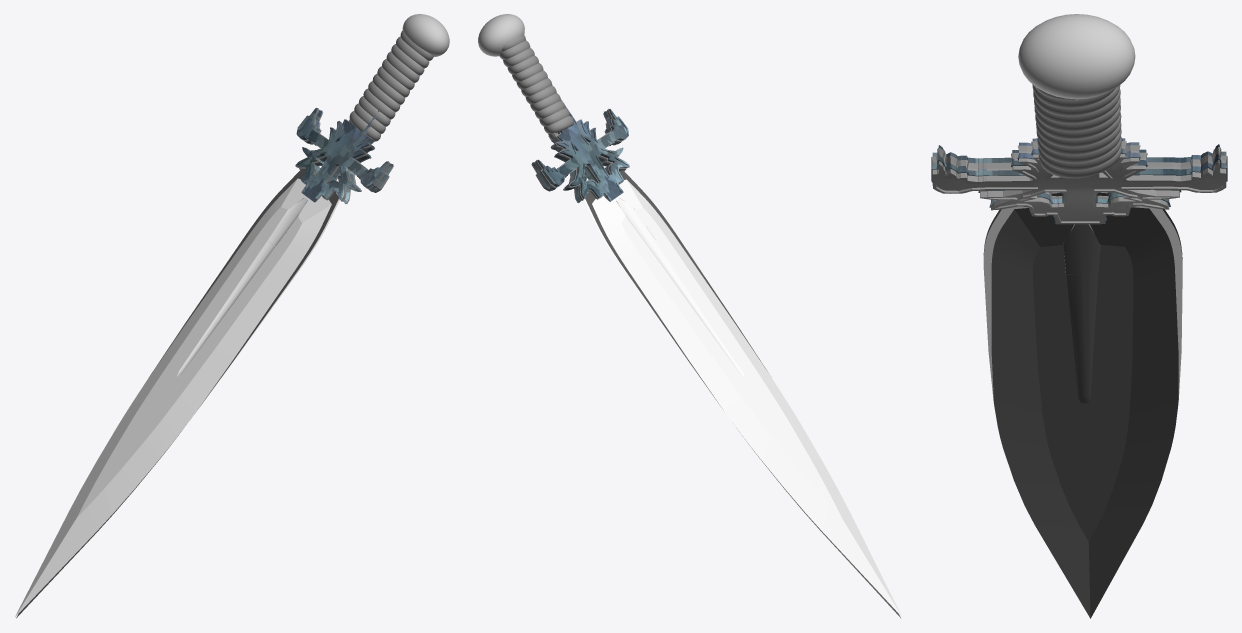
3 views of the same model, side by side, from view 1: azimuth 30°, elevation 25°; view 2: azimuth 150°, elevation 25°; view 3: azimuth 270°, elevation 25° (orthographic). The views are drawn at different scales.
Visible parts, largest first — view 1: OilTank02, Layer:Outline02, Helix01, OilTank01, Sphere01, Layer:Outline05; view 2: OilTank02, Layer:Outline02, Helix01, OilTank01, Sphere01, Layer:Outline05; view 3: OilTank01, Layer:Outline05, Sphere01, Helix01, Layer:Outline02, OilTank02.
Part boxes in pixels (<box>): OilTank02: <box>15,178,339,616</box>; Layer:Outline02: <box>295,103,393,203</box>; Helix01: <box>349,30,433,141</box>; OilTank01: <box>16,169,338,618</box>; Sphere01: <box>402,14,449,56</box>; Layer:Outline05: <box>295,108,393,203</box>; OilTank02: <box>584,179,902,617</box>; Layer:Outline02: <box>532,99,629,202</box>; Helix01: <box>499,35,573,140</box>; OilTank01: <box>585,170,900,617</box>; Sphere01: <box>478,14,524,56</box>; Layer:Outline05: <box>531,108,629,202</box>; OilTank01: <box>983,192,1182,618</box>; Layer:Outline05: <box>931,141,1227,224</box>; Sphere01: <box>1018,14,1135,99</box>; Helix01: <box>1032,84,1121,178</box>; Layer:Outline02: <box>931,138,1227,220</box>; OilTank02: <box>983,196,1182,402</box>.
Size of the model in its own units: 1684 by 1907 by 519.
